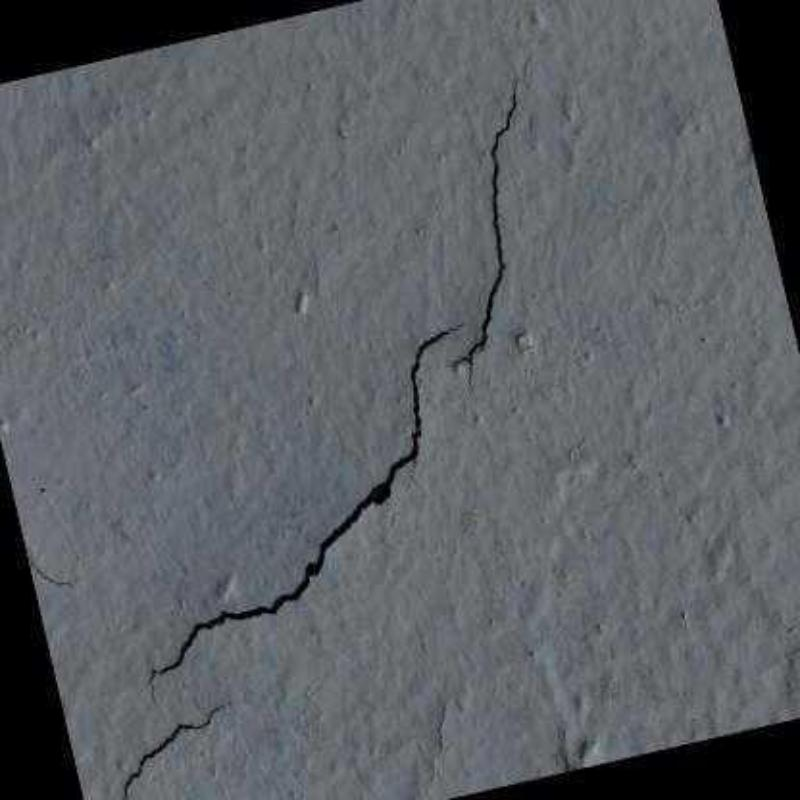crack: (148, 325, 462, 716), (453, 81, 518, 388), (118, 703, 222, 799)
